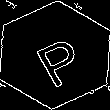P_NW: (24, 24, 86, 86)
